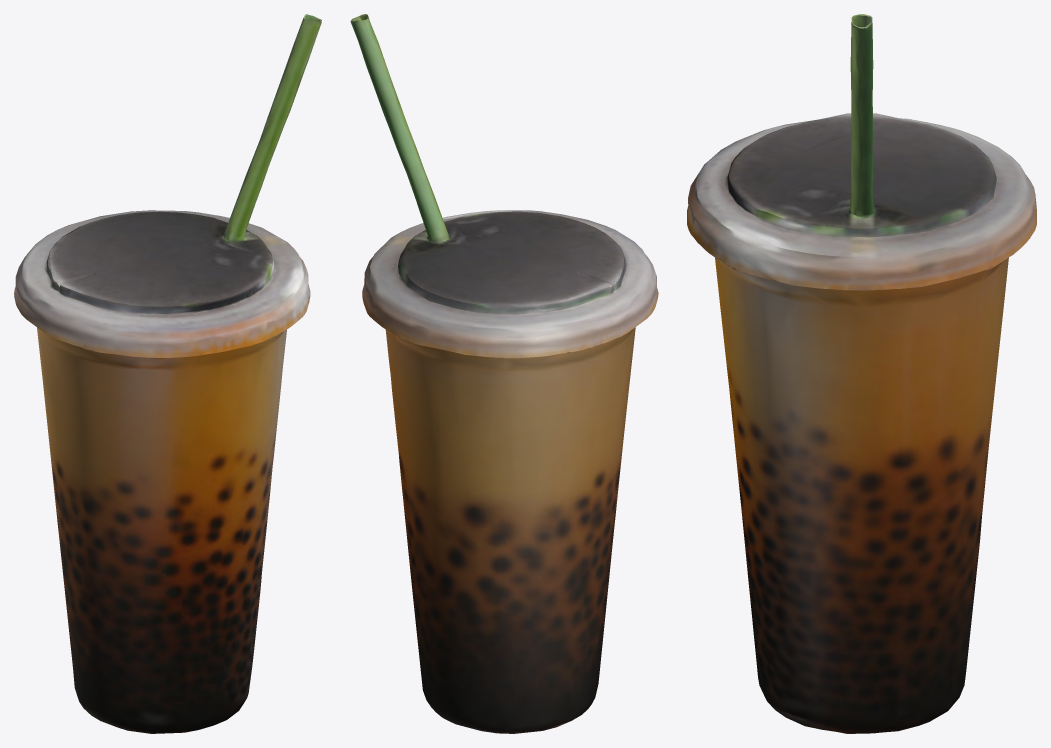
Rendered from item-bubble-tea.glb.
The picture shows the model from 3 angles, left to right: view 1: azimuth 30°, elevation 25°; view 2: azimuth 150°, elevation 25°; view 3: azimuth 270°, elevation 25°; orthographic projection. The views are drawn at different scales.
Parts seen in each view (by area): view 1: item-bubble-tea; view 2: item-bubble-tea; view 3: item-bubble-tea.
Part boxes in pixels (bbox=[...]): item-bubble-tea: bbox=[14, 14, 321, 733]; item-bubble-tea: bbox=[350, 14, 658, 733]; item-bubble-tea: bbox=[687, 14, 1036, 733].
Bounding box in the file's own units: 0.1111 × 0.24 × 0.0993.
Materials: 1 (1 with a texture image).
